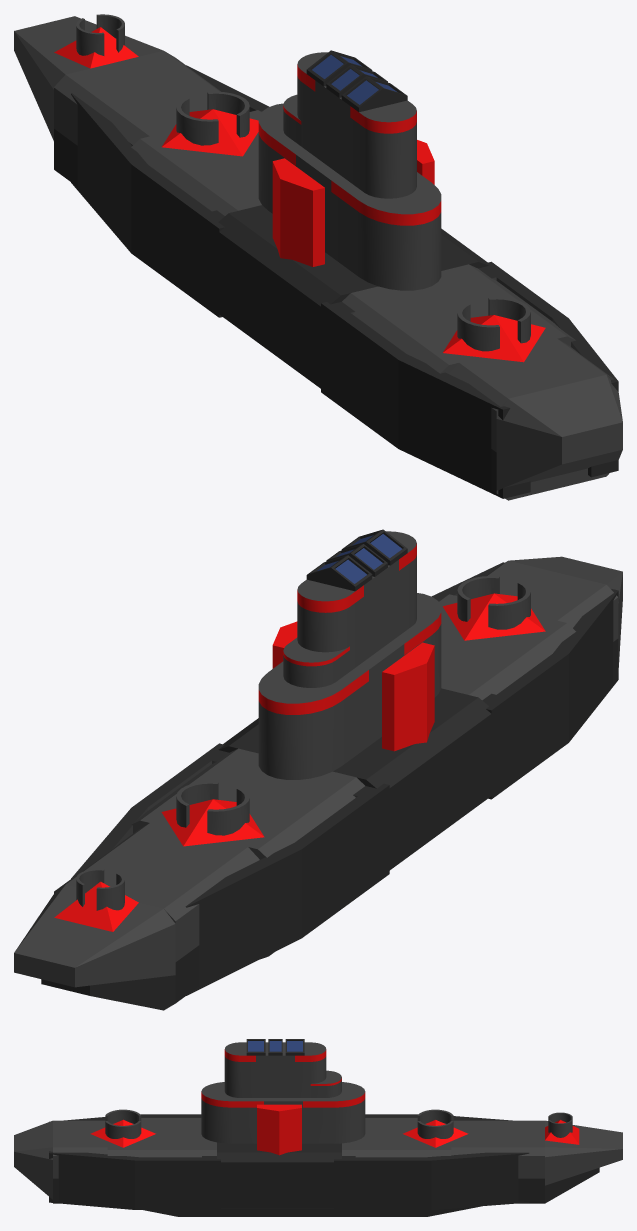
The model's file is cruiser.fbx.
The picture shows the model from 3 angles, top to bottom: view 1: azimuth 30°, elevation 25°; view 2: azimuth 150°, elevation 25°; view 3: azimuth 270°, elevation 25°; orthographic projection. The views are drawn at different scales.
Parts seen in each view (by area): view 1: engine_corner_35, plane_body_22, engine_corner_31, plane_tailPoint%_34, block_round_39, plane_body_25, plane_body_23, plane_body_20, plane_body_24, block_round_43, wall_border_51, plane_tailPoint%_26 (+17 smaller); view 2: engine_corner_31, plane_body_22, engine_corner_35, plane_body_25, plane_tailPoint%_26, block_round_41, plane_body_24, plane_body_23, wall_border_51, plane_body_20, block_round_55, block_54 (+18 smaller); view 3: engine_corner_30, engine_corner_32, plane_body_22, plane_body_25, block_round_41, plane_tailPoint%_26, plane_body_23, block_round_39, plane_body_24, wall_border_51, detail_fenderSquare_36, plane_tailPoint%_34 (+20 smaller).
Part boxes in pixels (x1,y1,x2,y2): engine_corner_35: (321, 301, 530, 498); plane_body_22: (212, 205, 488, 391); engine_corner_31: (71, 93, 224, 317); plane_tailPoint%_34: (496, 375, 622, 490); block_round_39: (331, 172, 441, 290); plane_body_25: (54, 50, 220, 186); plane_body_23: (342, 264, 575, 373); plane_body_20: (449, 339, 613, 500); plane_body_24: (131, 110, 261, 215); block_round_43: (350, 100, 416, 198); wall_border_51: (272, 140, 434, 266); plane_tailPoint%_26: (14, 16, 163, 140); engine_corner_31: (185, 783, 389, 995); plane_body_22: (218, 688, 491, 870); engine_corner_35: (482, 589, 618, 799); plane_body_25: (54, 823, 259, 1010); plane_tailPoint%_26: (14, 884, 175, 987); block_round_41: (258, 661, 368, 779); plane_body_24: (131, 748, 364, 859); plane_body_23: (437, 594, 575, 700); wall_border_51: (272, 621, 434, 751); plane_body_20: (486, 560, 618, 682); block_round_55: (297, 579, 363, 671); block_54: (364, 560, 398, 661); engine_corner_30: (334, 1152, 529, 1209); engine_corner_32: (49, 1151, 220, 1209); plane_body_22: (217, 1142, 341, 1208); plane_body_25: (451, 1120, 544, 1203); block_round_41: (303, 1082, 365, 1143); plane_tailPoint%_26: (545, 1120, 622, 1185); plane_body_23: (107, 1118, 216, 1157); block_round_39: (201, 1082, 263, 1143); plane_body_24: (342, 1118, 451, 1157); wall_border_51: (257, 1104, 301, 1155); detail_fenderSquare_36: (145, 1206, 479, 1216); plane_tailPoint%_34: (14, 1120, 52, 1199).
Size of the model in its own units: 14 by 24.22 by 78.
